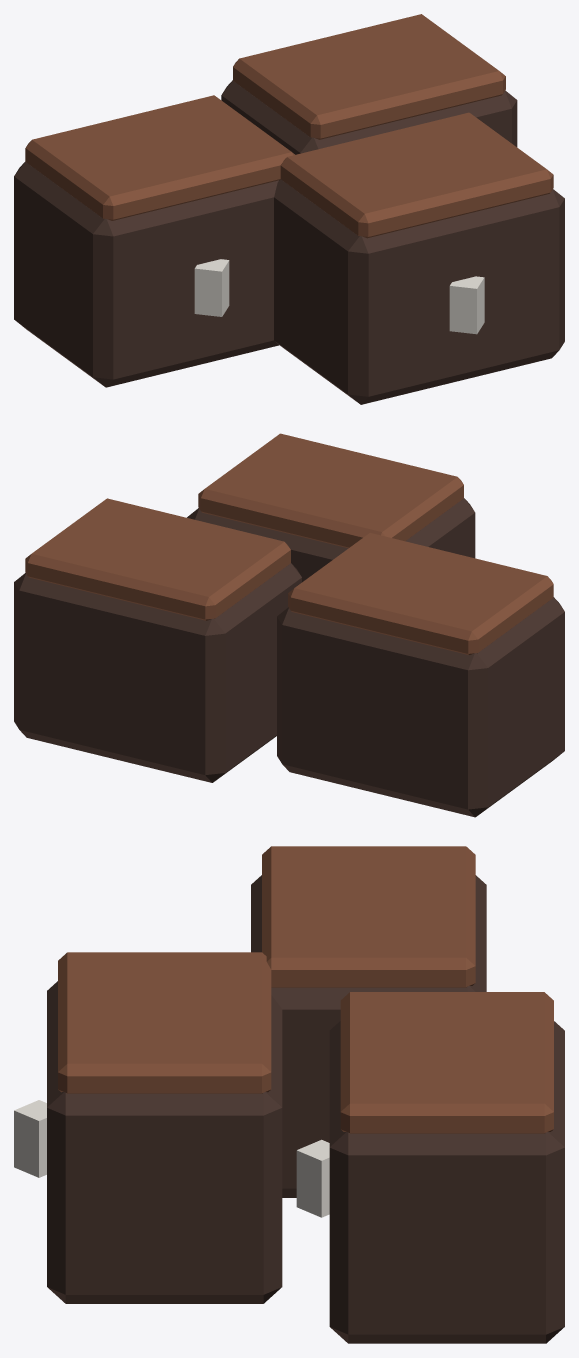
The model's file is res_incense.glb.
The picture shows the model from 3 angles, top to bottom: view 1: azimuth 30°, elevation 25°; view 2: azimuth 150°, elevation 25°; view 3: azimuth 270°, elevation 25°; orthographic projection. The views are drawn at different scales.
Visible parts, largest first — view 1: res_incense; view 2: res_incense; view 3: res_incense.
Part boxes in pixels (x1,y1,x2,y2): res_incense: (14, 14, 564, 404); res_incense: (14, 433, 564, 817); res_incense: (14, 846, 564, 1343).
Bounding box in the file's own units: 0.21 × 0.0835 × 0.1755.
